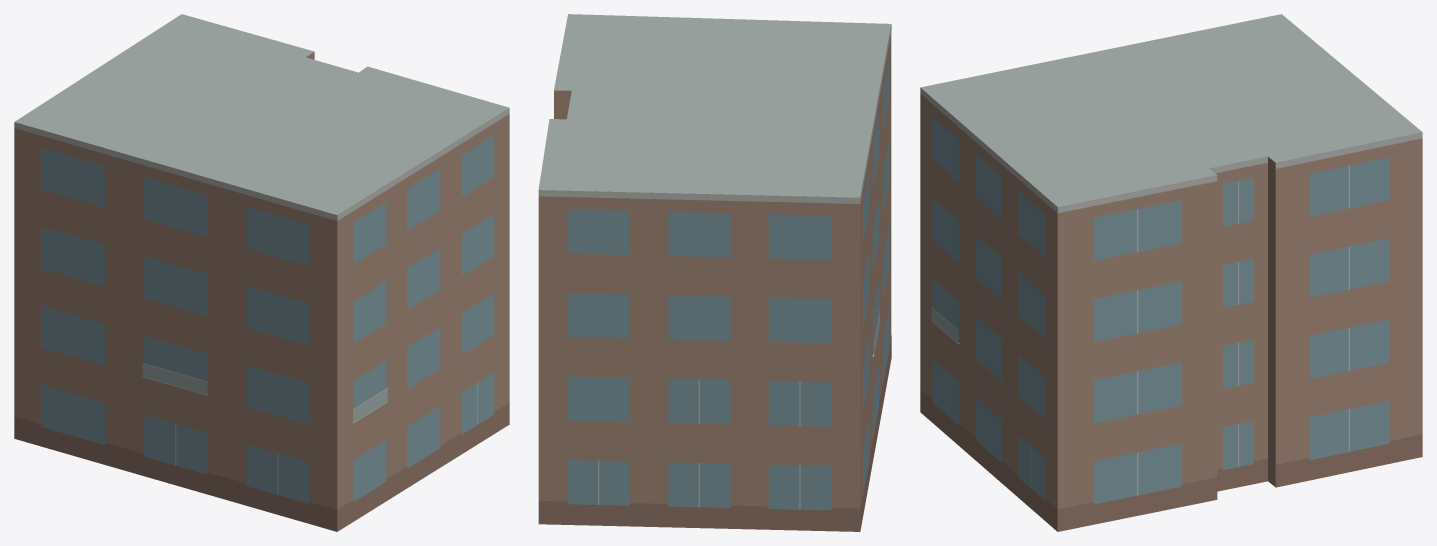
File: survey-upis-32746744.glb
3 renders of one model, left to right at view 1: azimuth 30°, elevation 25°; view 2: azimuth 150°, elevation 25°; view 3: azimuth 270°, elevation 25°, orthographic. The views are drawn at different scales.
Visible parts, largest first — view 1: survey-upis-32746744.tmp; view 2: survey-upis-32746744.tmp; view 3: survey-upis-32746744.tmp.
Boxes of the visible parts, x1=… form: survey-upis-32746744.tmp: x1=14, y1=14, x2=509, y2=531; survey-upis-32746744.tmp: x1=538, y1=14, x2=891, y2=531; survey-upis-32746744.tmp: x1=920, y1=14, x2=1422, y2=531.
Bounding box in the file's own units: 16.59 × 13 × 18.24.
